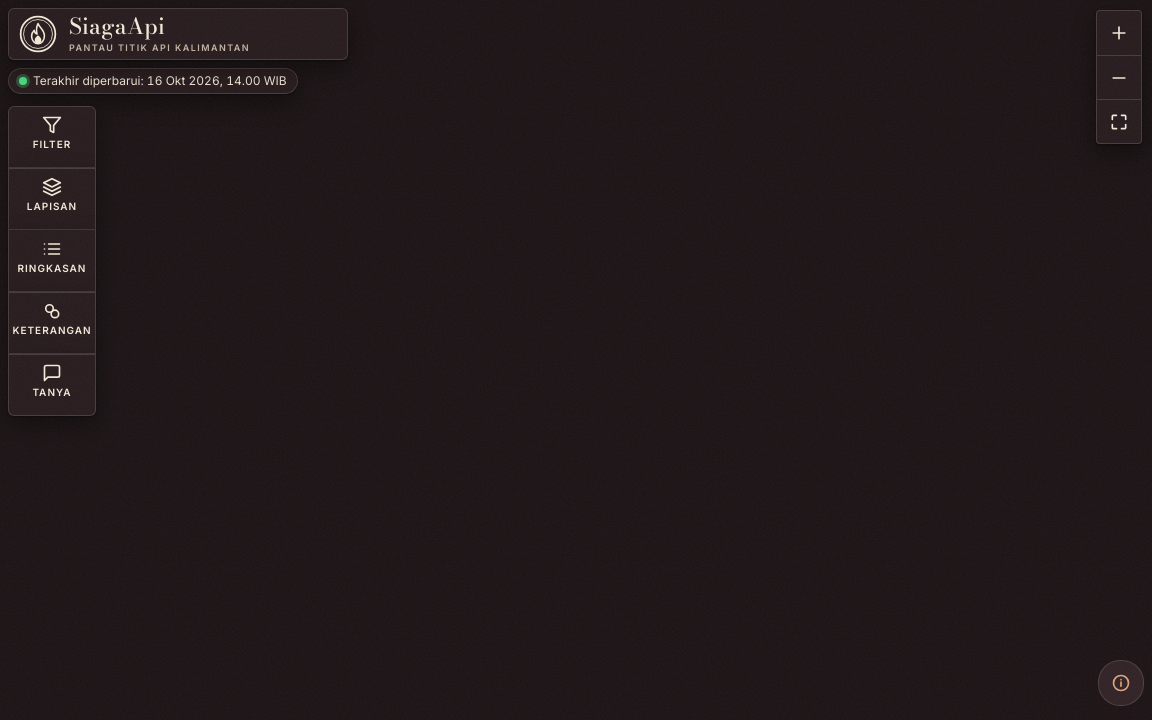
Test: conversation order is kept: question, answer, question, answer
Click the button "Tanya".
click(52, 385)  # box [9,363,95,407]
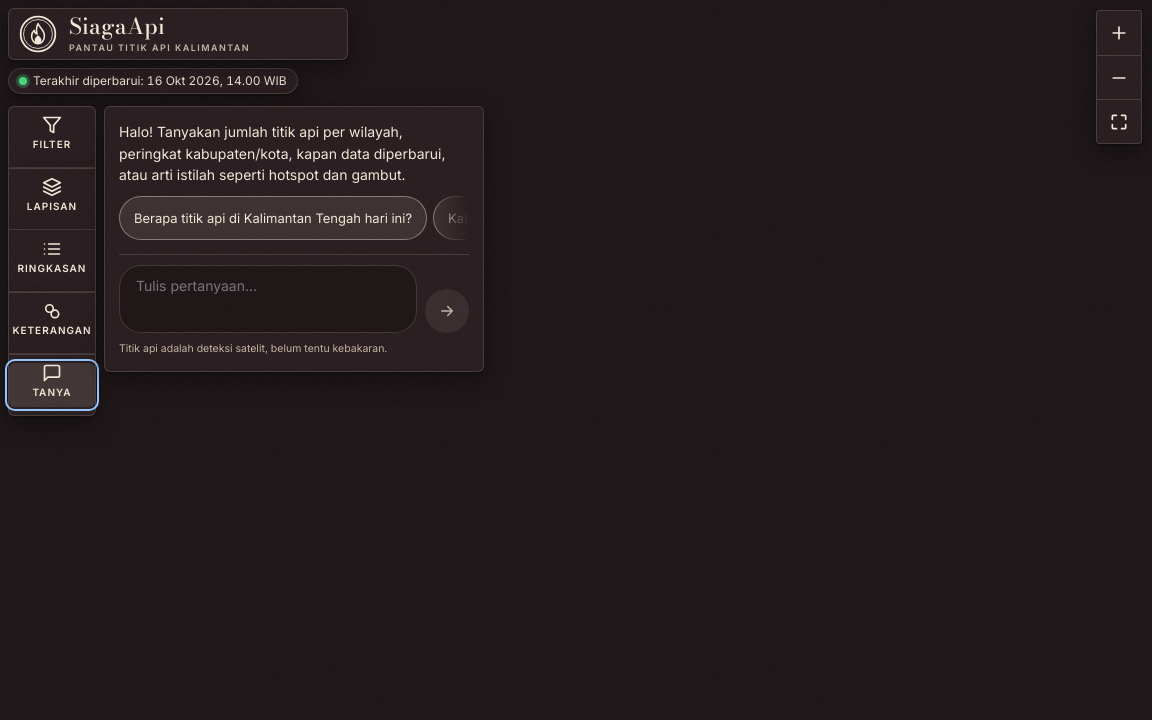
Type "pertama" into the text box labelled "pertanyaan".
click(268, 299); type("pertama")  # box [119,265,417,333]
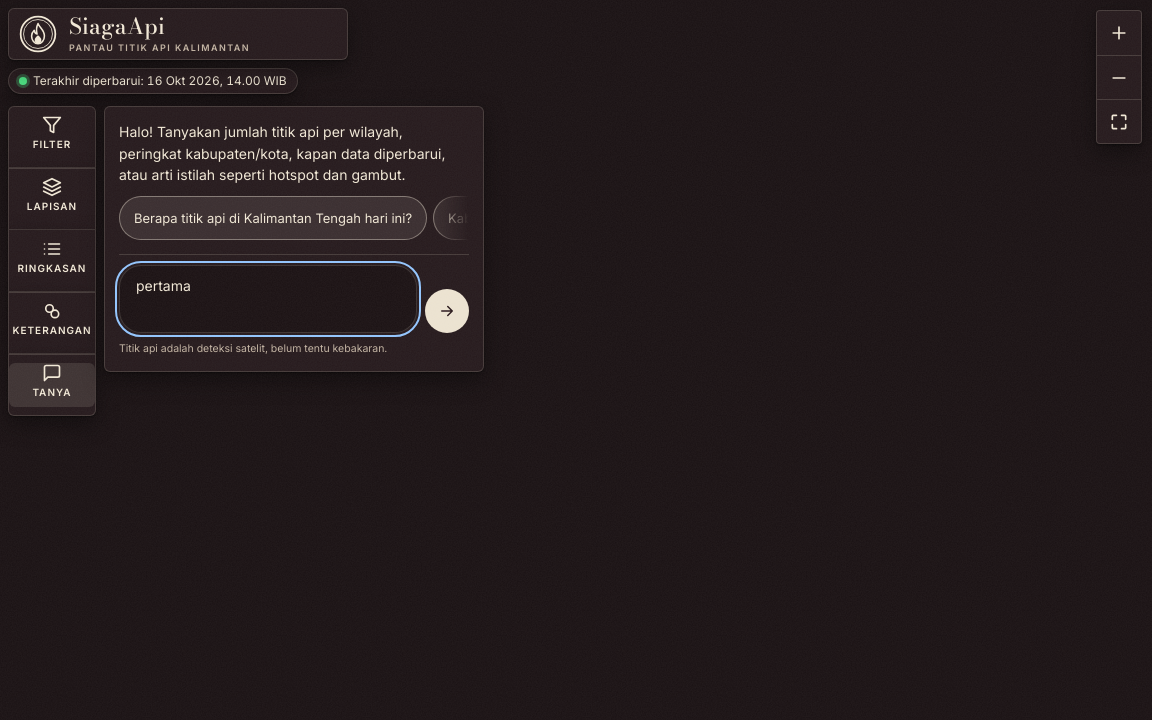
Click the button named "Kirim".
click(447, 311)  # box [425,289,469,333]
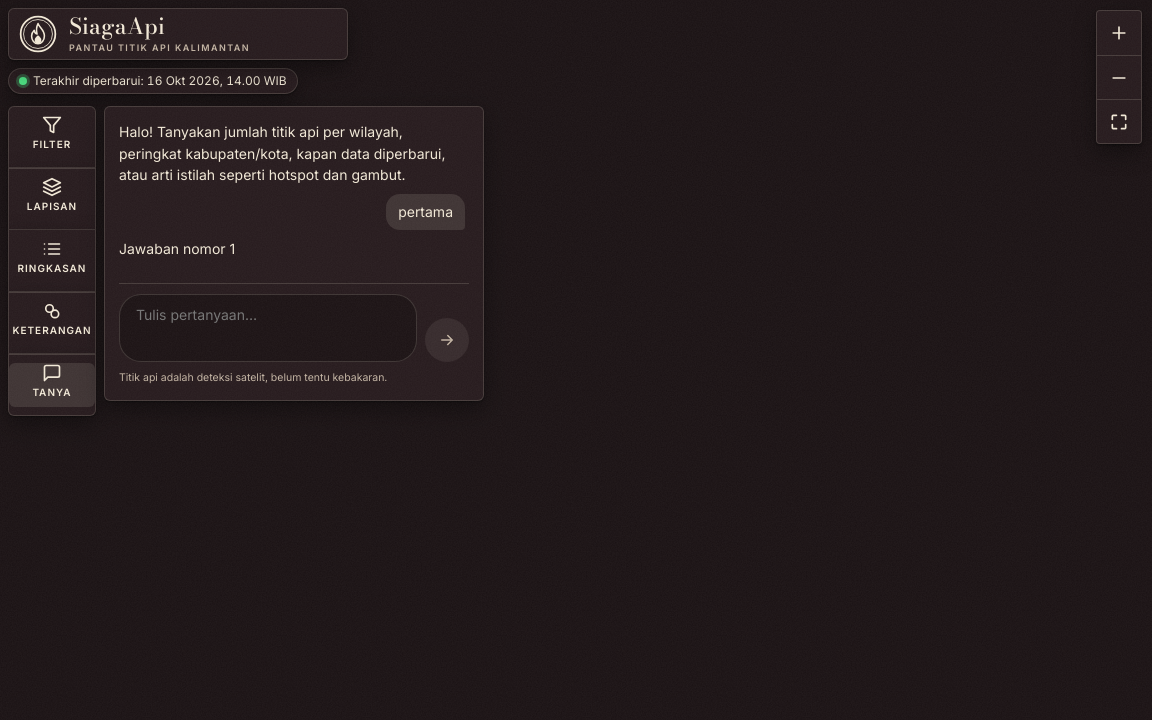
Now the text "Jawaban nomor 1" is shown, box [119,240,235,257]
Type "kedua" into the text box labelled "pertanyaan".
click(268, 328); type("kedua")  # box [119,294,417,362]
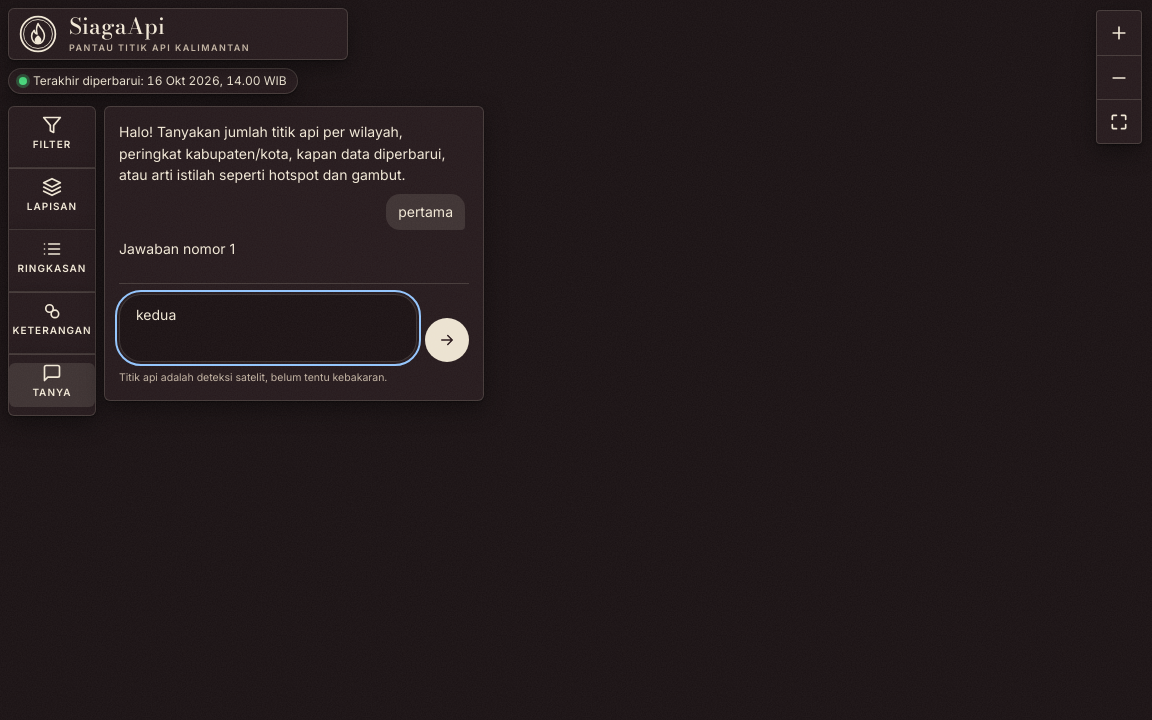
Click the button named "Kirim".
click(447, 340)  # box [425,318,469,362]
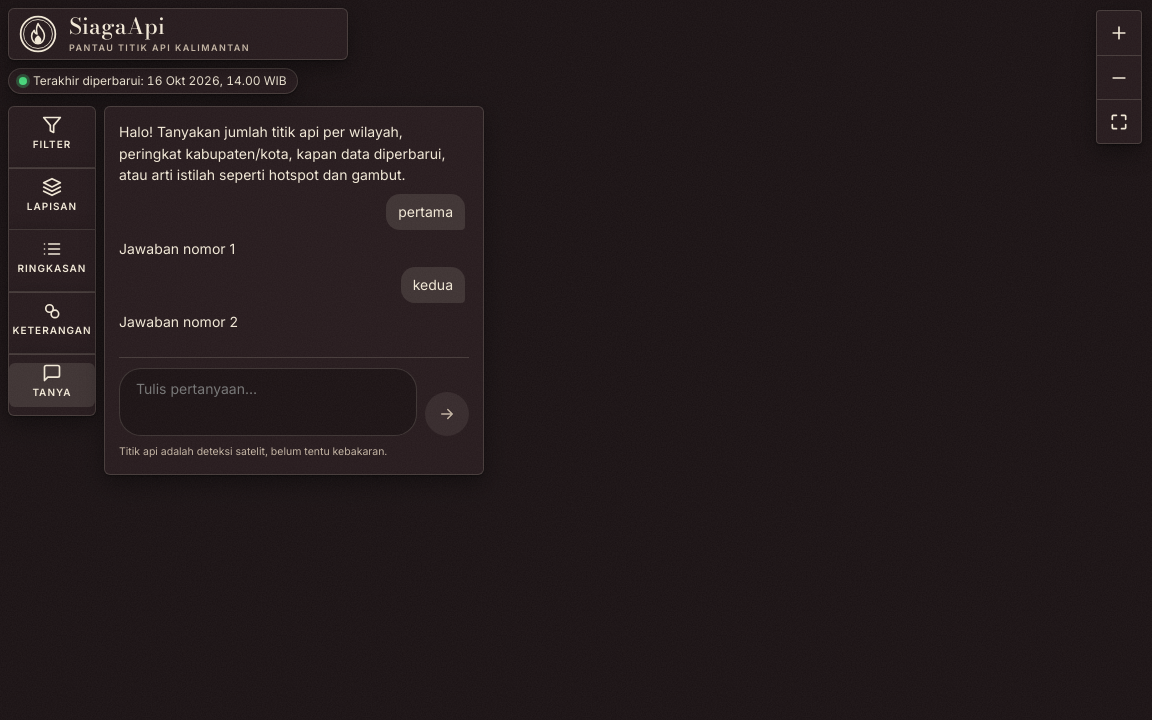
Now the text "Jawaban nomor 2" is shown, box [119,313,238,330]
